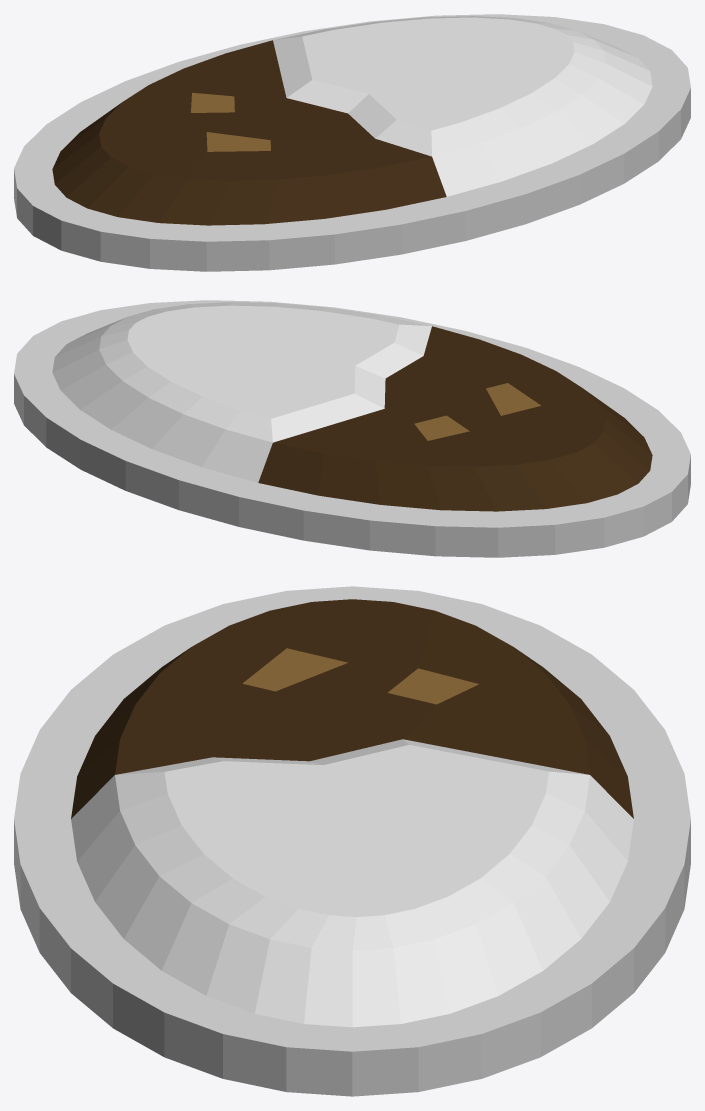
The model's file is CurryRice.fbx.
The picture shows the model from 3 angles, top to bottom: view 1: azimuth 30°, elevation 25°; view 2: azimuth 150°, elevation 25°; view 3: azimuth 270°, elevation 25°; orthographic projection. The views are drawn at different scales.
Parts seen in each view (by area): view 1: 円; view 2: 円; view 3: 円.
Part boxes in pixels (<box>): 円: <box>14,14,690,271</box>; 円: <box>14,300,690,557</box>; 円: <box>14,586,690,1096</box>.
Size of the model in its own units: 325 by 33.82 by 200.
